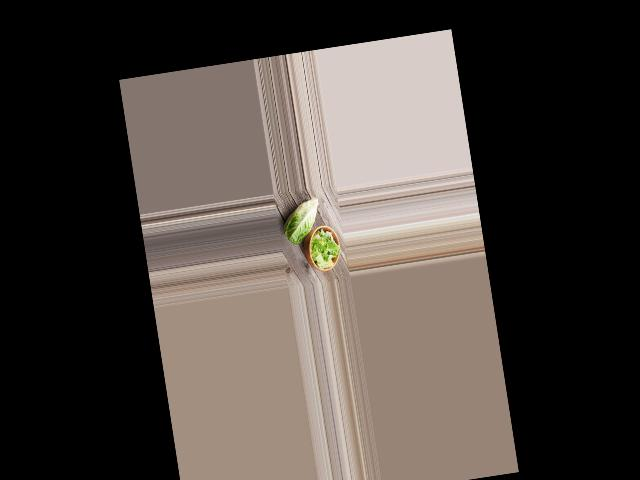lettuce: (278, 198, 324, 245)
